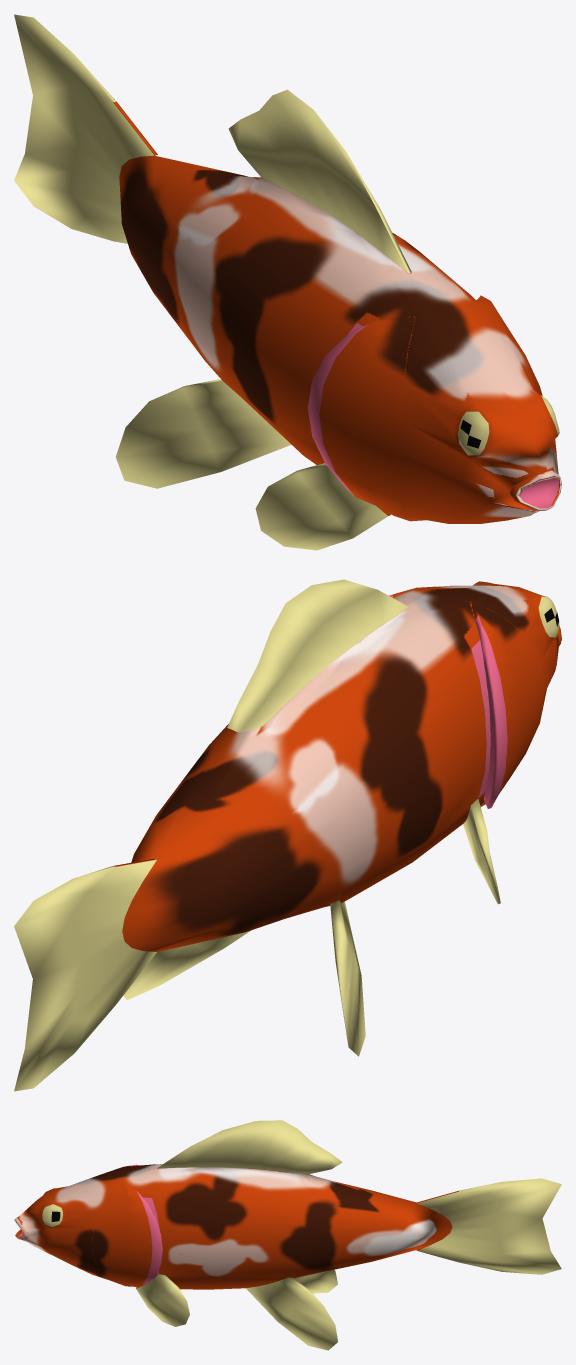
The model's file is Fish.fbx.
The picture shows the model from 3 angles, top to bottom: view 1: azimuth 30°, elevation 25°; view 2: azimuth 150°, elevation 25°; view 3: azimuth 270°, elevation 25°; orthographic projection. The views are drawn at different scales.
Parts seen in each view (by area): view 1: Fish; view 2: Fish; view 3: Fish.
Boxes of the visible parts, x1,y1,x2,y2 form: Fish: (14,14,561,550); Fish: (14,579,561,1091); Fish: (14,1120,561,1350).
Size of the model in its own units: 64.9 by 101 by 249.
Materials: 4 (1 with a texture image).
